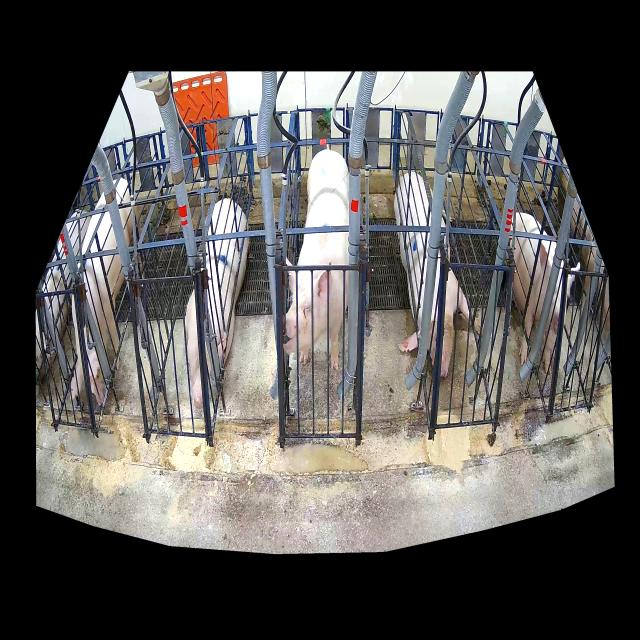pig: (394, 172, 469, 379), (285, 150, 349, 369), (72, 178, 133, 406), (185, 198, 249, 409), (513, 213, 580, 374)
